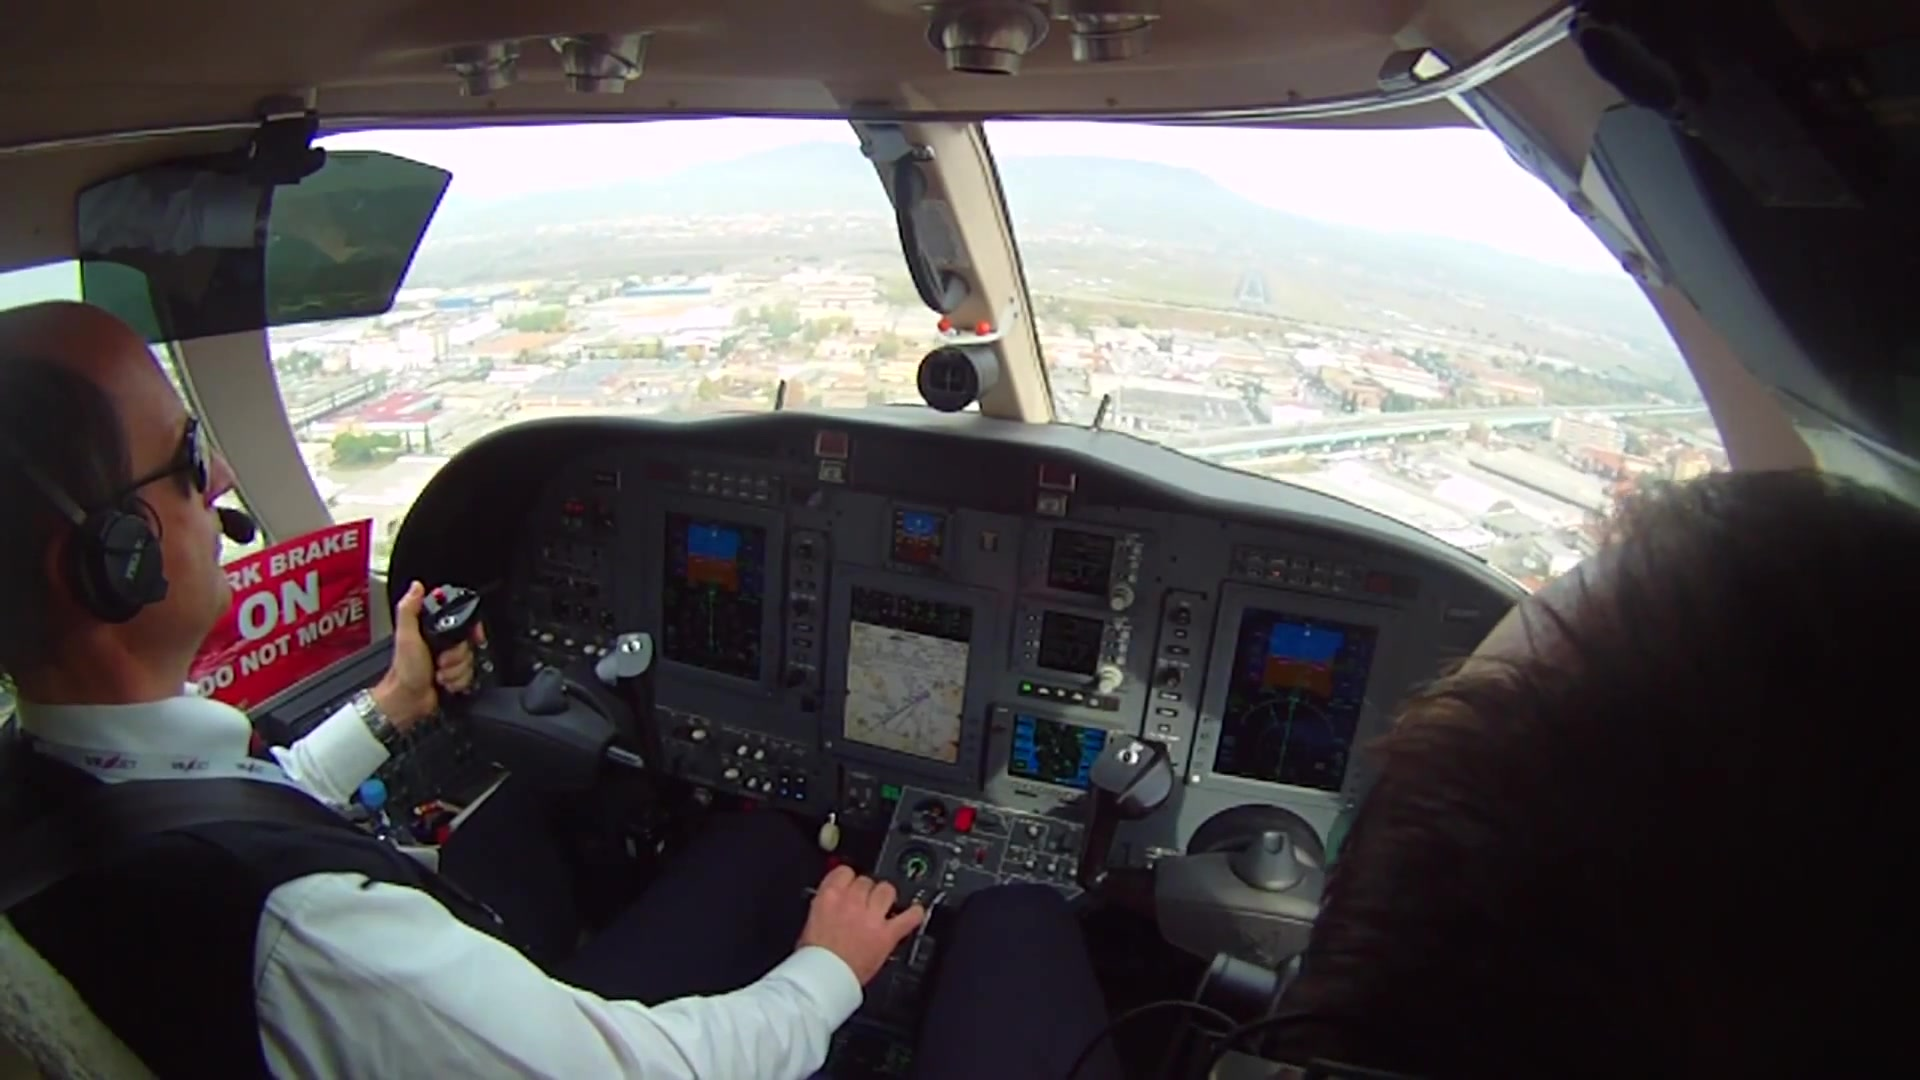runway: (1238, 262, 1265, 306)
